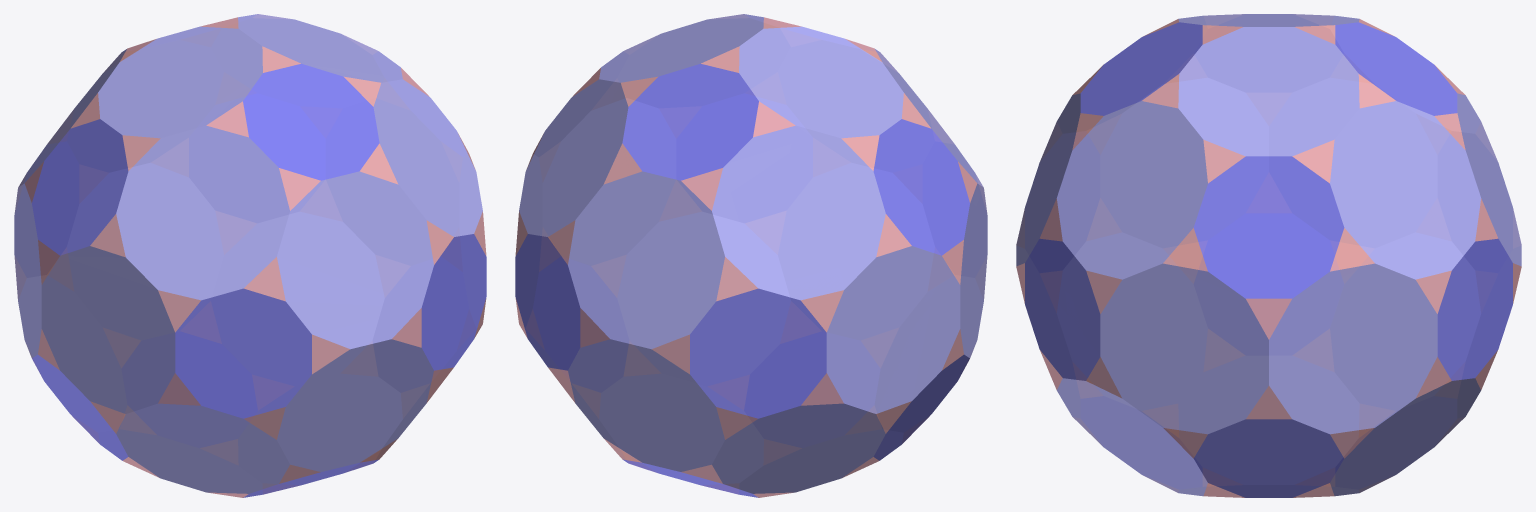
File: BiTruncatedIcosahedron.obj
3 views of the same model, side by side, from view 1: azimuth 30°, elevation 25°; view 2: azimuth 150°, elevation 25°; view 3: azimuth 270°, elevation 25° (orthographic). The views are drawn at different scales.
Size of the model in its own units: 2 by 2 by 2.
